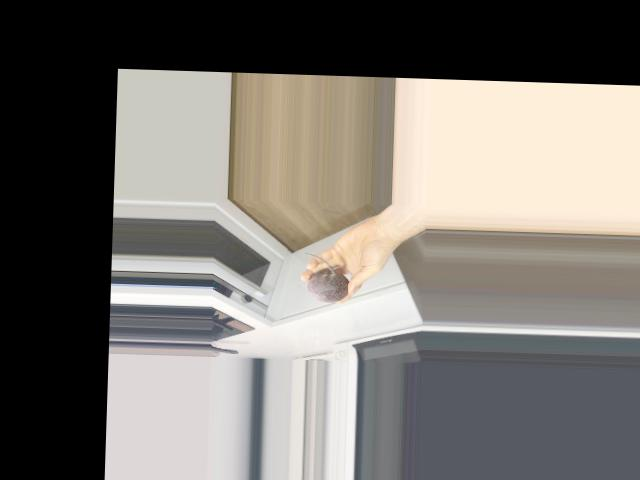beet: (302, 252, 349, 303)
